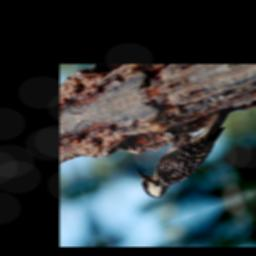Woodpecker: (122, 101, 256, 211)
